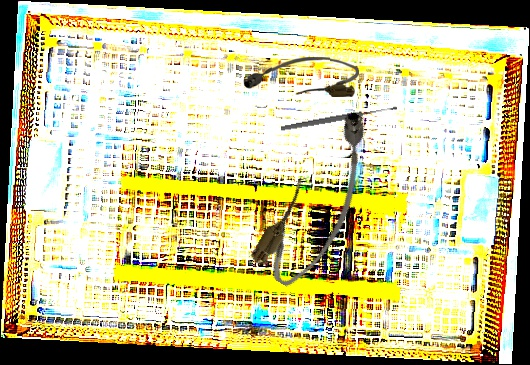Cannula: (246, 104, 396, 296), (242, 55, 360, 98)
Surgical Spoon: (280, 104, 398, 133)
